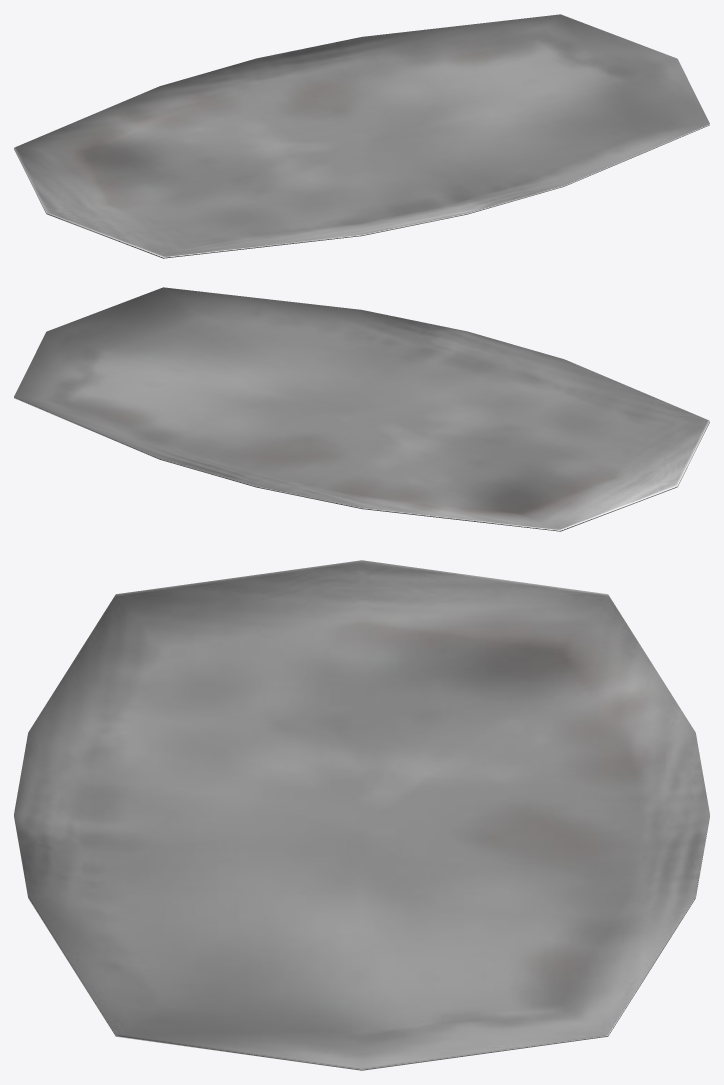
The model's file is Serving_vi.fbx.
The picture shows the model from 3 angles, top to bottom: view 1: azimuth 30°, elevation 25°; view 2: azimuth 150°, elevation 25°; view 3: azimuth 270°, elevation 25°; orthographic projection. The views are drawn at different scales.
Visible parts, largest first — view 1: serving; view 2: serving; view 3: serving.
Boxes of the visible parts, x1=… form: serving: x1=14, y1=14, x2=709, y2=258; serving: x1=14, y1=287, x2=709, y2=531; serving: x1=14, y1=560, x2=709, y2=1070.
Bounding box in the file's own units: 0.00849 × 0.000244 × 0.00492.
1 material, 1 textured.
